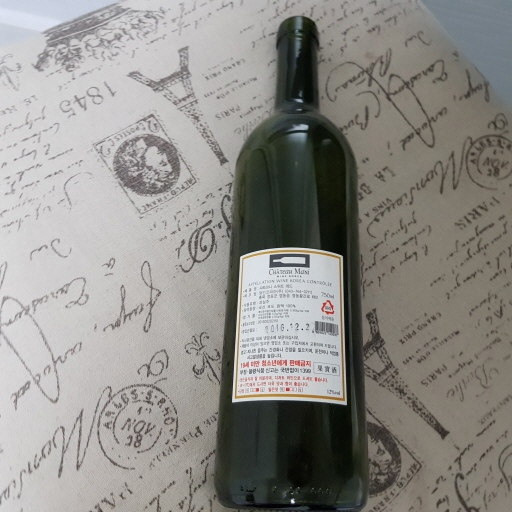Glass_2: (217, 17, 366, 512)
